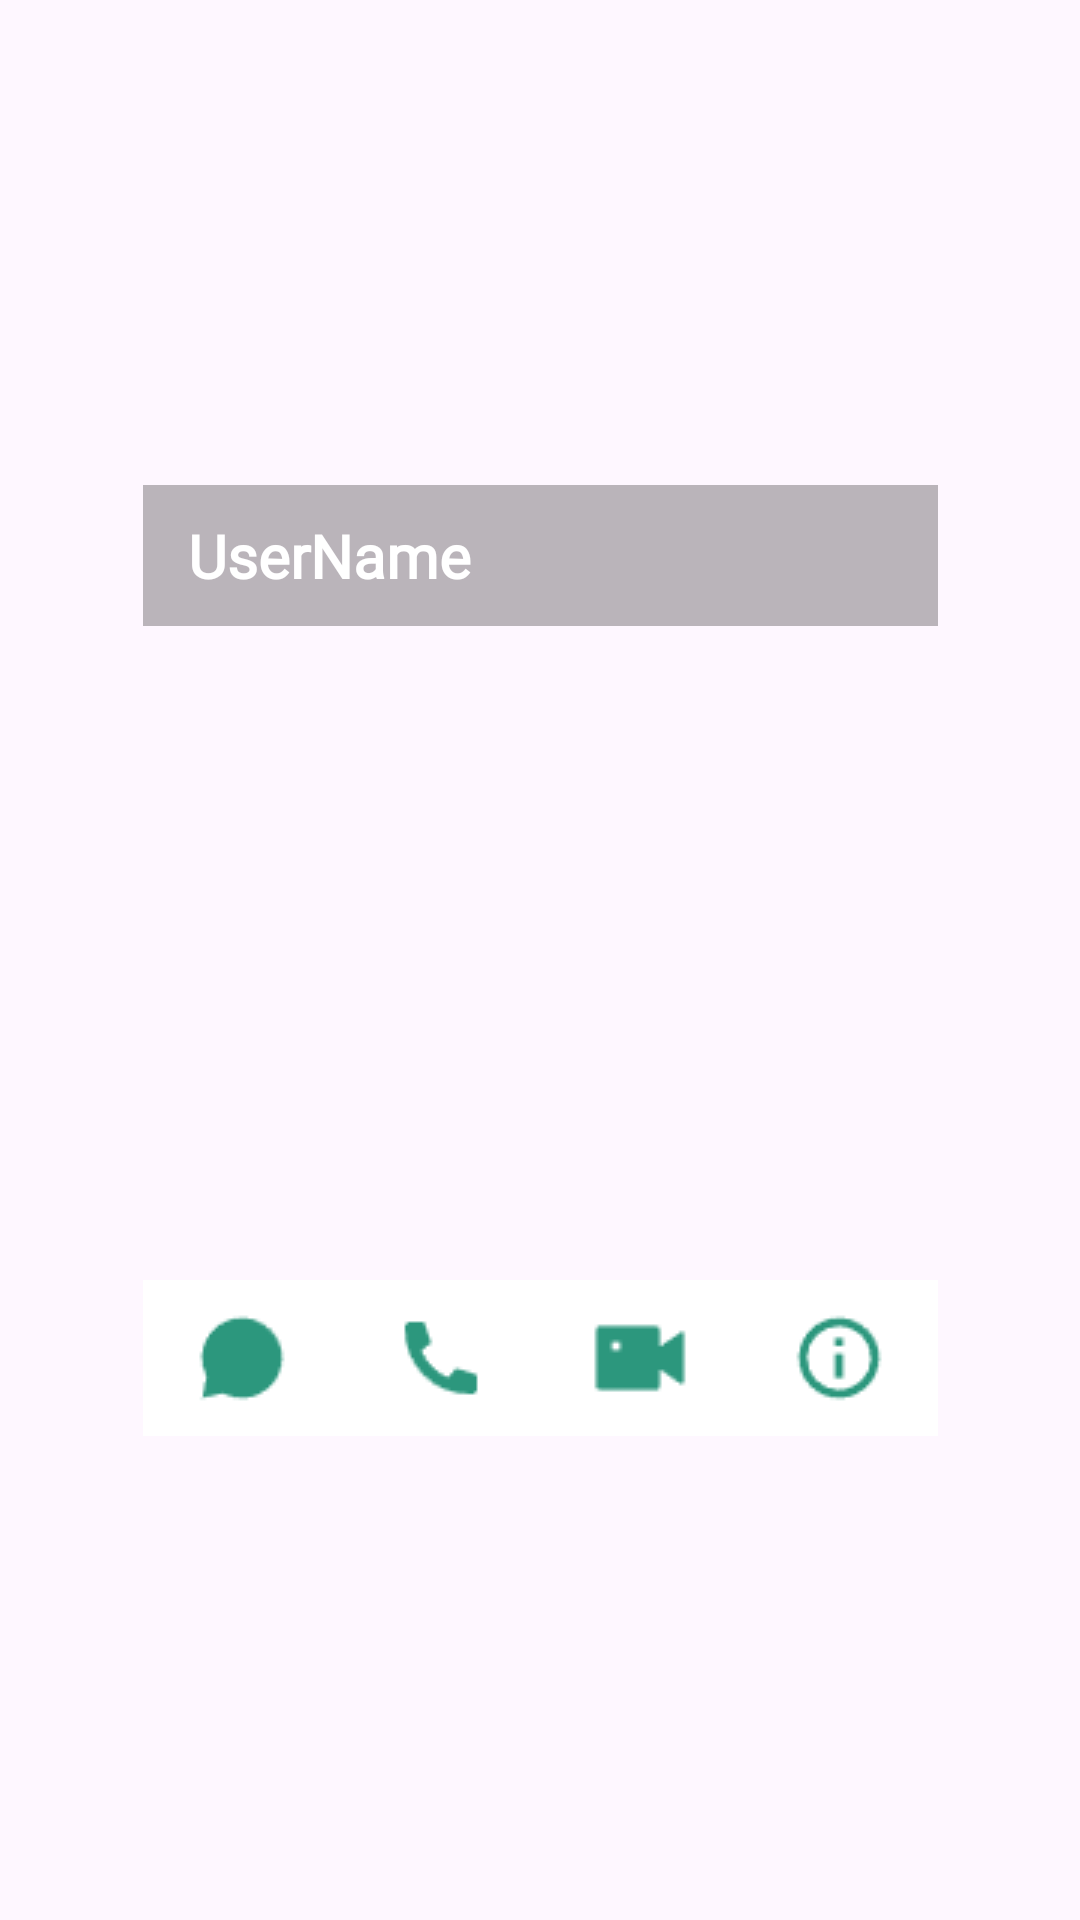

Where to tap for icons on this 1080*1920 app screen, as [x,y]:
chat: [242,1358]
information: [839,1358]
phone: [441,1358]
vedio: [640,1358]
